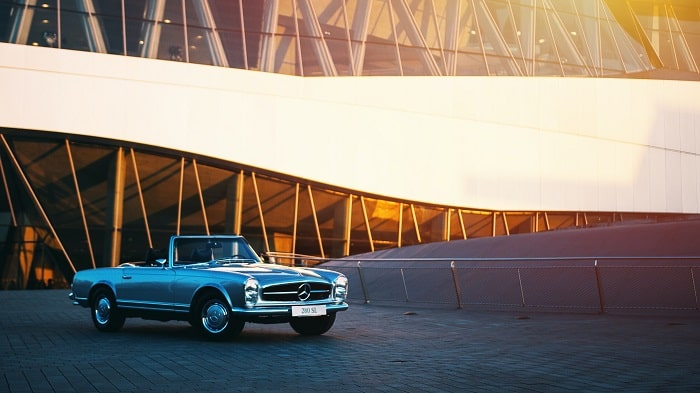car: (68, 234, 350, 341)
